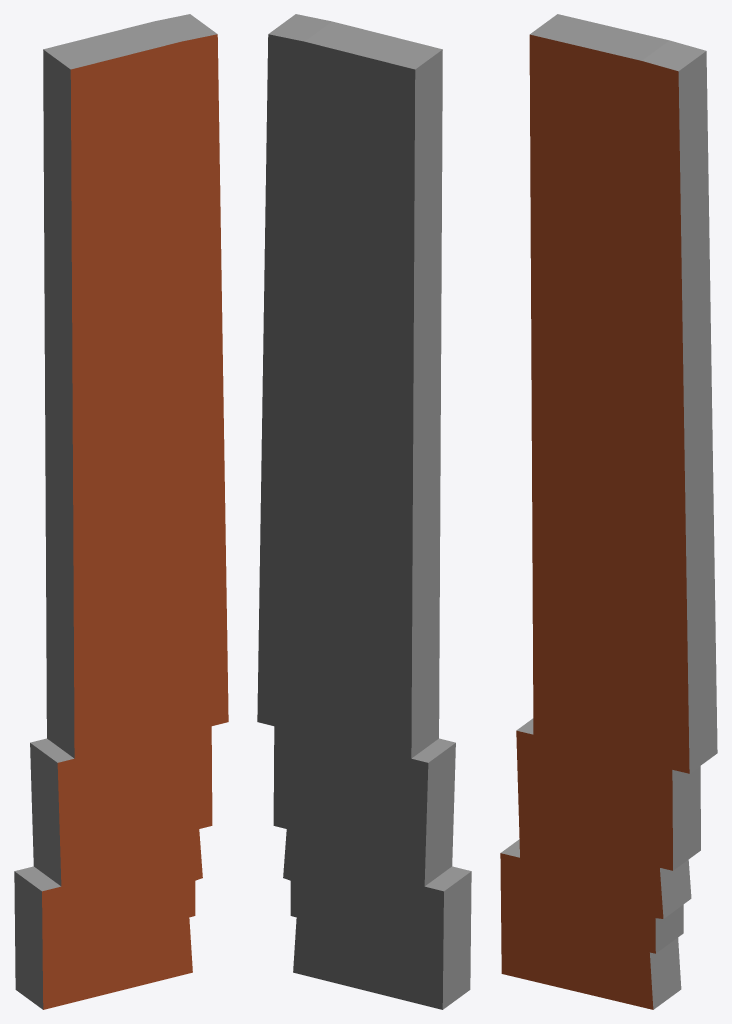
File: construction_5532_assumed_A_Casa_h6m.obj
3 renders of one model, left to right at view 1: azimuth 30°, elevation 25°; view 2: azimuth 150°, elevation 25°; view 3: azimuth 330°, elevation 25°, orthographic.
Parts seen in each view (by area): view 1: construction_5532_assumed_A_Casa; view 2: construction_5532_assumed_A_Casa; view 3: construction_5532_assumed_A_Casa.
Part boxes in pixels (x1,y1,x2,y2): construction_5532_assumed_A_Casa: (14, 14, 228, 1009); construction_5532_assumed_A_Casa: (257, 14, 471, 1009); construction_5532_assumed_A_Casa: (500, 14, 717, 1009).
Size of the model in its own units: 23.41 by 112 by 6.
